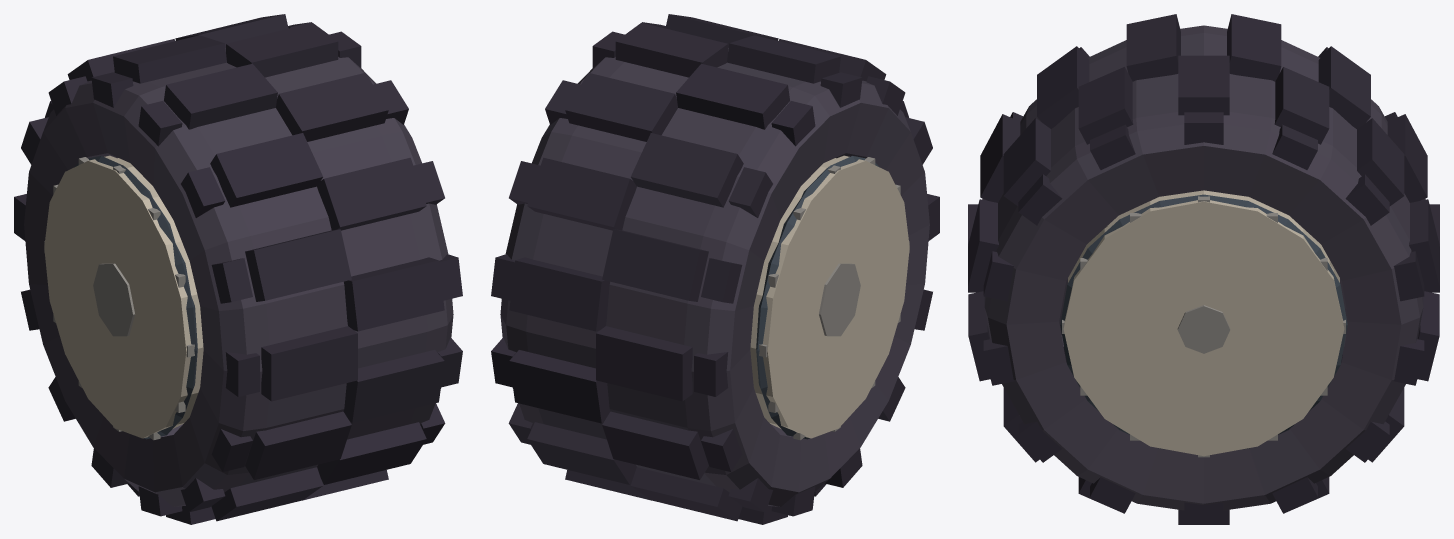
Rendered from bracken_wheels.glb.
The picture shows the model from 3 angles, left to right: view 1: azimuth 30°, elevation 25°; view 2: azimuth 150°, elevation 25°; view 3: azimuth 270°, elevation 25°; orthographic projection.
Parts seen in each view (by area): view 1: bracken_wheel, bracken_rim; view 2: bracken_wheel, bracken_rim; view 3: bracken_wheel, bracken_rim.
Boxes of the visible parts, x1,y1,x2,y2 form: bracken_wheel: (14, 14, 462, 524); bracken_rim: (44, 155, 203, 440); bracken_wheel: (491, 14, 939, 524); bracken_rim: (750, 155, 909, 440); bracken_wheel: (968, 14, 1439, 524); bracken_rim: (1060, 190, 1347, 457).
Bounding box in the file's own units: 0.7192 × 1.18 × 1.18.
